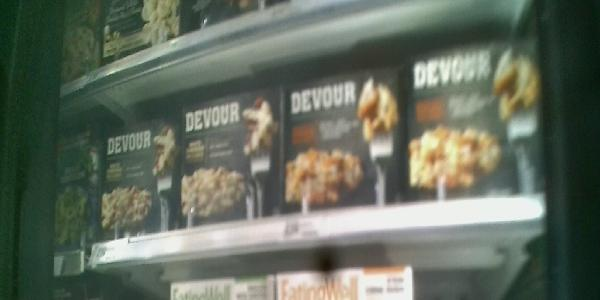pizza1: (406, 43, 546, 206), (284, 62, 405, 215), (181, 90, 282, 227), (100, 130, 171, 229)
